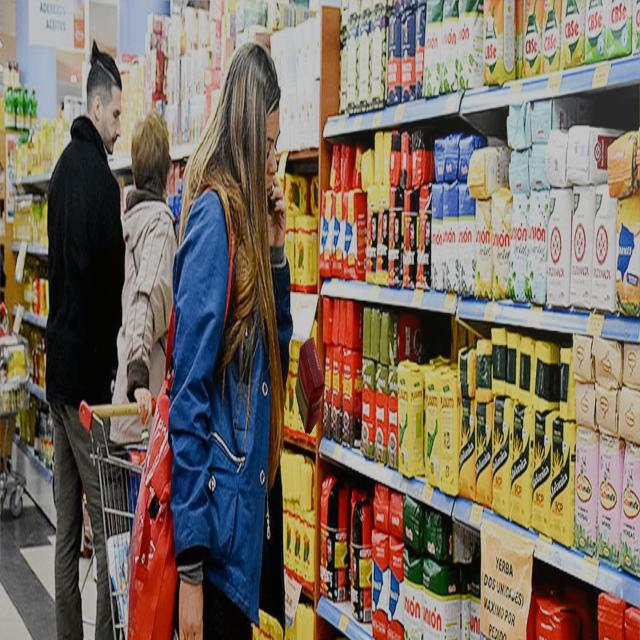mate bag: (297, 339, 324, 435), (297, 343, 323, 438), (370, 532, 386, 638), (388, 535, 403, 640), (537, 599, 575, 640), (374, 482, 389, 537), (389, 489, 402, 536)
